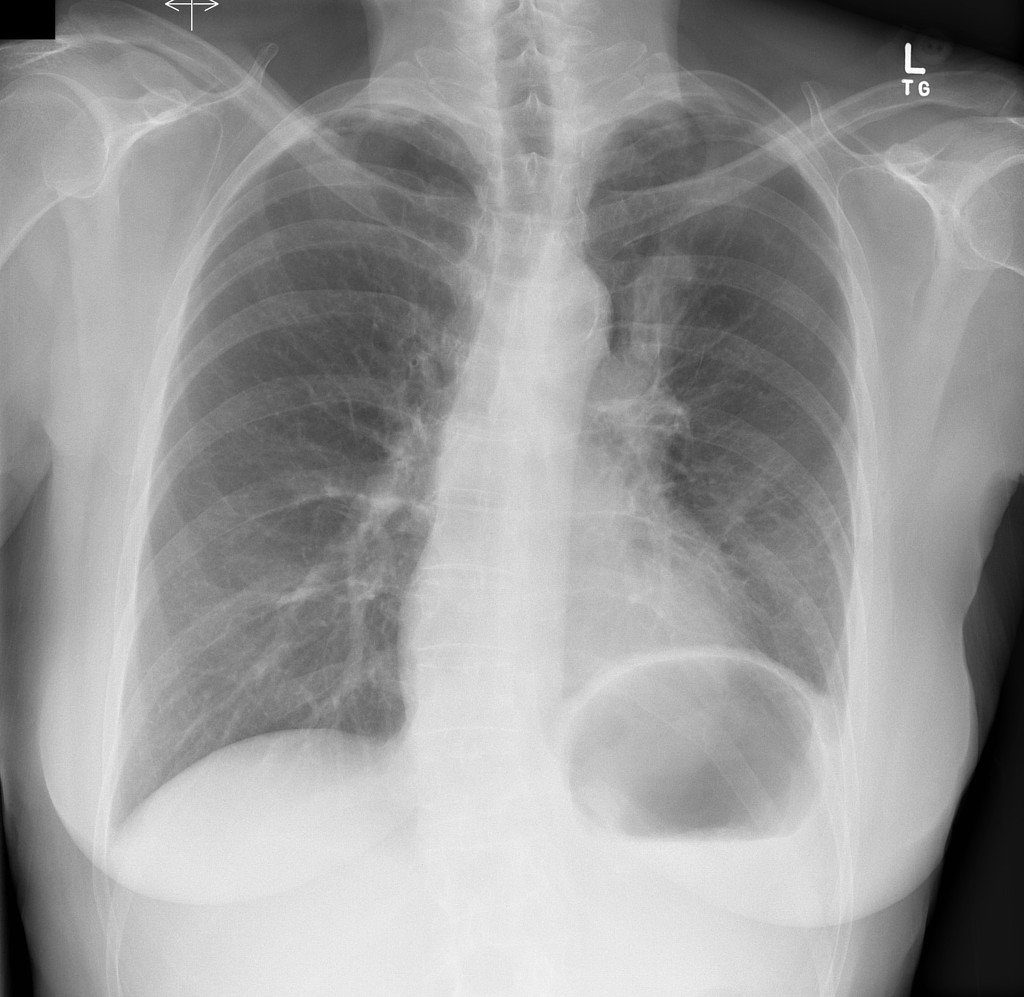cancer: (135, 213, 518, 759)
